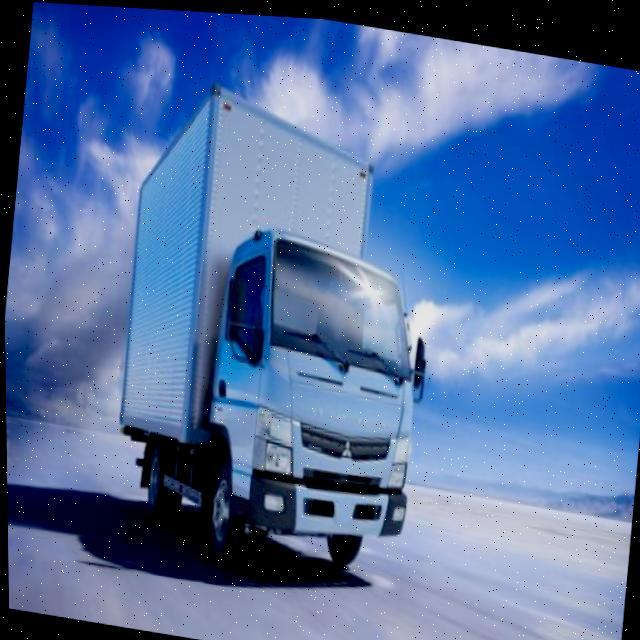truck: (97, 70, 453, 592)
